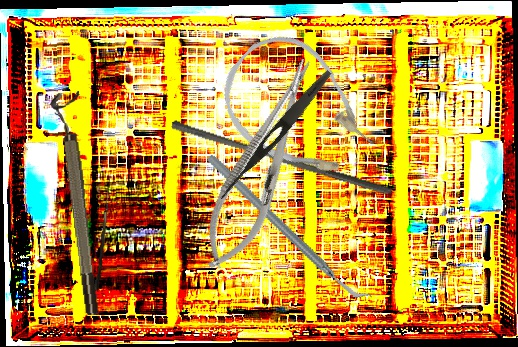Cannula: (202, 17, 394, 205)
Chopper: (204, 118, 373, 337)
Dressing Forceps: (216, 66, 335, 205)
Fixation Ring: (49, 91, 103, 317)
Hook Surgical: (94, 177, 111, 291)
Needle Holder: (189, 49, 333, 281)
Pusher: (168, 119, 396, 197)
